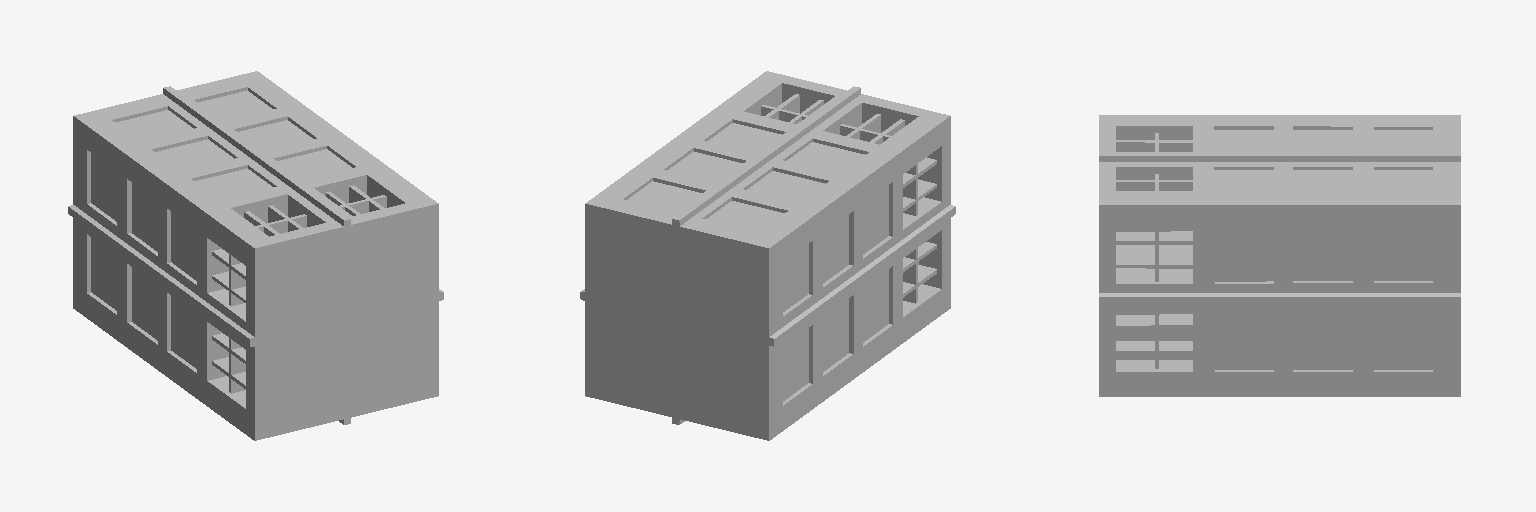
The model's file is TARDISDoors.obj.
The picture shows the model from 3 angles: view 1: azimuth 30°, elevation 25°; view 2: azimuth 150°, elevation 25°; view 3: azimuth 270°, elevation 25°; orthographic projection.
Visible parts, largest first — view 1: Tardis-Interior_Cube.001; view 2: Tardis-Interior_Cube.001; view 3: Tardis-Interior_Cube.001.
Part boxes in pixels (left/top/right/bottom): Tardis-Interior_Cube.001: left=68, top=71, right=443, bottom=440; Tardis-Interior_Cube.001: left=580, top=71, right=955, bottom=440; Tardis-Interior_Cube.001: left=1099, top=115, right=1460, bottom=396.
Bounding box in the file's own units: 6.13 × 6.18 × 9.92.